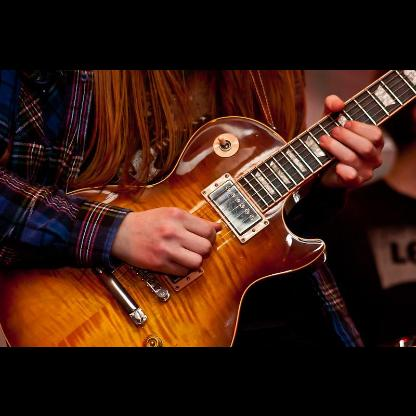guitar: (0, 70, 416, 346)
